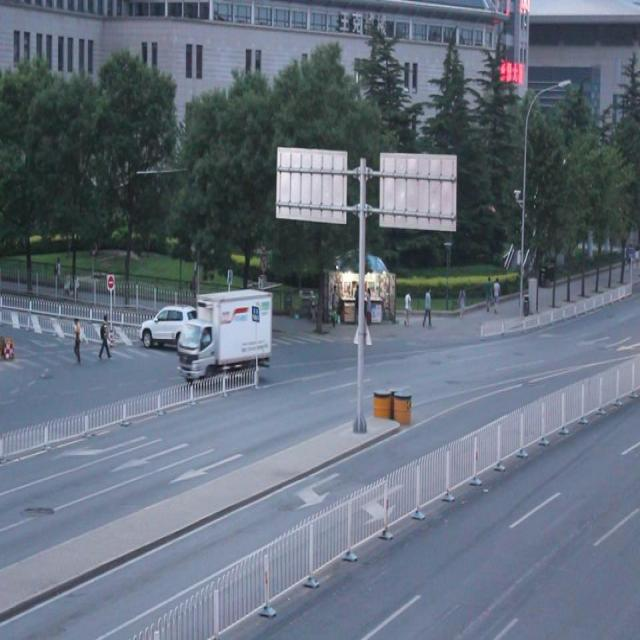bus: (178, 292, 272, 381)
car: (139, 302, 201, 349)
